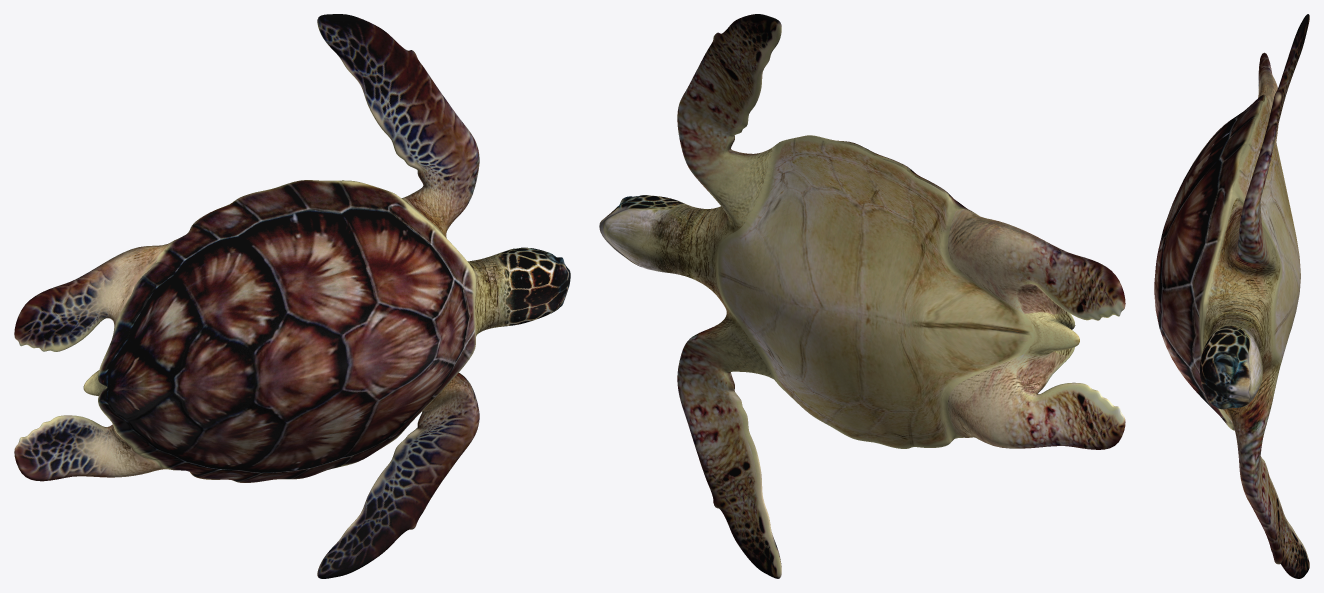
File: turtle.glb
3 renders of one model, left to right at view 1: azimuth 30°, elevation 25°; view 2: azimuth 150°, elevation 25°; view 3: azimuth 270°, elevation 25°, orthographic.
Visible parts, largest first — view 1: 10042_Sea_Turtle_V1; view 2: 10042_Sea_Turtle_V1; view 3: 10042_Sea_Turtle_V1.
Boxes of the visible parts, <box> form: 10042_Sea_Turtle_V1: <box>14,14,570,578</box>; 10042_Sea_Turtle_V1: <box>599,14,1125,578</box>; 10042_Sea_Turtle_V1: <box>1154,14,1309,578</box>.
Size of the model in its own units: 102 by 102 by 25.77.
Materials: 1 (1 with a texture image).
